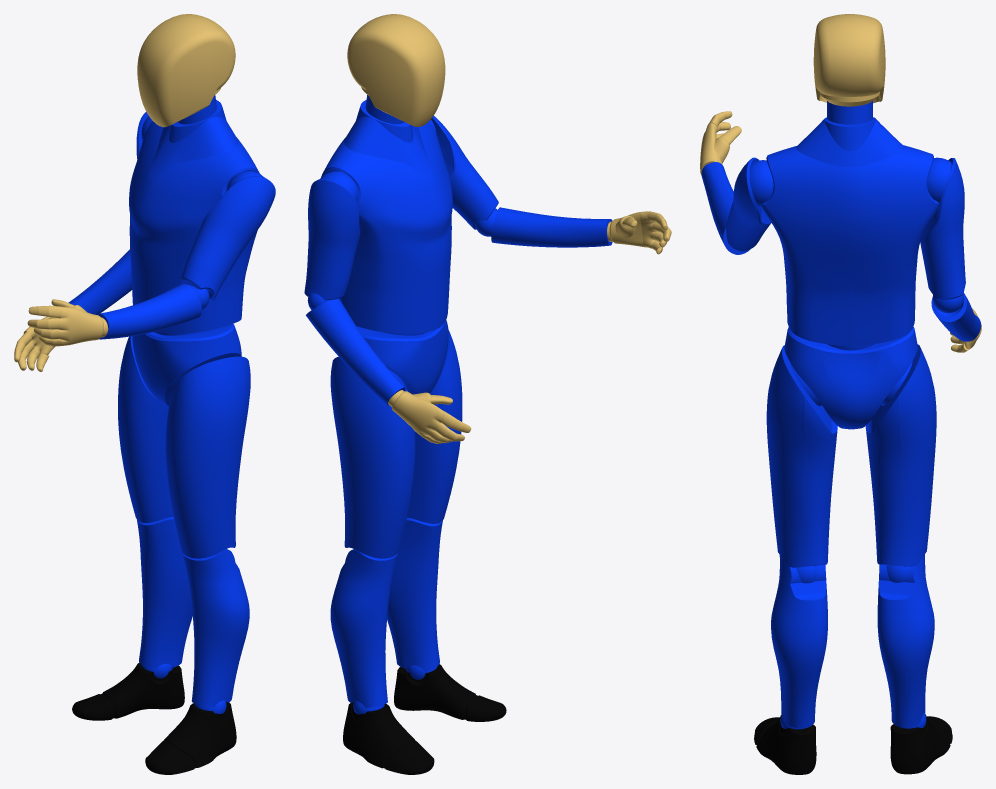
The model's file is grabPoseDraco.glb.
3 views of the same model, side by side, from view 1: azimuth 30°, elevation 25°; view 2: azimuth 150°, elevation 25°; view 3: azimuth 270°, elevation 25° (orthographic). The views are drawn at different scales.
Visible parts, largest first — view 1: Object_3, Object_7, Object_4, Object_2, Object_6, Object_12, Object_13, Object_9, Object_11, Object_10; view 2: Object_3, Object_4, Object_7, Object_2, Object_5, Object_13, Object_12, Object_6, Object_8, Object_9, Object_10; view 3: Object_4, Object_3, Object_7, Object_2, Object_5, Object_6, Object_12, Object_13, Object_9.
Part boxes in pixels (bbox=[...]): Object_3: bbox=[68, 249, 249, 713]; Object_7: bbox=[97, 284, 250, 558]; Object_4: bbox=[129, 95, 259, 335]; Object_2: bbox=[137, 14, 235, 127]; Object_6: bbox=[180, 171, 275, 309]; Object_12: bbox=[145, 701, 236, 774]; Object_13: bbox=[72, 662, 184, 720]; Object_9: bbox=[51, 299, 108, 345]; Object_11: bbox=[27, 305, 62, 346]; Object_10: bbox=[14, 332, 49, 371]; Object_3: bbox=[306, 298, 442, 714]; Object_4: bbox=[321, 95, 452, 335]; Object_7: bbox=[356, 207, 612, 523]; Object_2: bbox=[347, 14, 445, 126]; Object_5: bbox=[304, 171, 360, 309]; Object_13: bbox=[343, 702, 434, 774]; Object_12: bbox=[394, 664, 506, 721]; Object_6: bbox=[429, 116, 498, 236]; Object_8: bbox=[388, 390, 452, 437]; Object_9: bbox=[607, 211, 656, 248]; Object_10: bbox=[424, 411, 471, 443]; Object_4: bbox=[762, 101, 938, 350]; Object_3: bbox=[771, 293, 981, 729]; Object_7: bbox=[701, 162, 917, 583]; Object_2: bbox=[813, 14, 885, 106]; Object_5: bbox=[920, 157, 965, 313]; Object_6: bbox=[726, 157, 773, 251]; Object_12: bbox=[754, 715, 816, 774]; Object_13: bbox=[890, 714, 952, 774]; Object_9: bbox=[700, 123, 741, 175].
Size of the model in its own units: 0.7003 by 1.75 by 0.5978.
